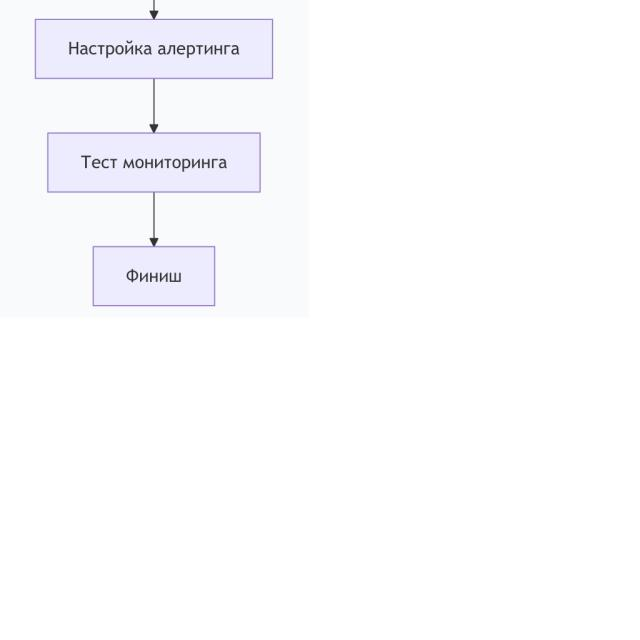arrow: (150, 79, 158, 132), (150, 193, 158, 246)
rectangle: (35, 19, 273, 78), (48, 132, 260, 192), (93, 246, 215, 306)
